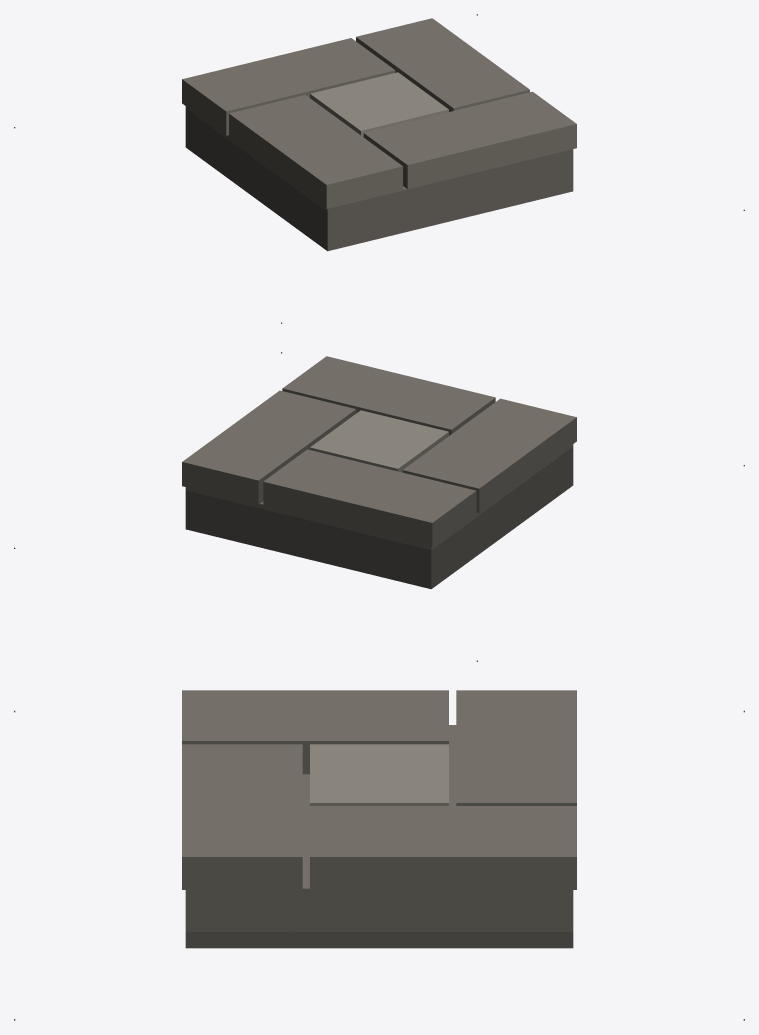
The model's file is floor_stone.glb.
The picture shows the model from 3 angles, top to bottom: view 1: azimuth 30°, elevation 25°; view 2: azimuth 150°, elevation 25°; view 3: azimuth 270°, elevation 25°; orthographic projection. The views are drawn at different scales.
Bounding box in the file's own units: 1 × 0.14 × 1.
Materials: 1 (1 with a texture image).
